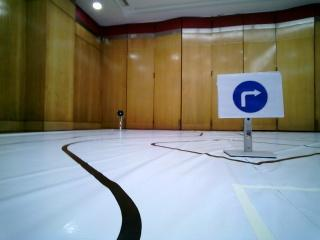right: (217, 74, 279, 118)
